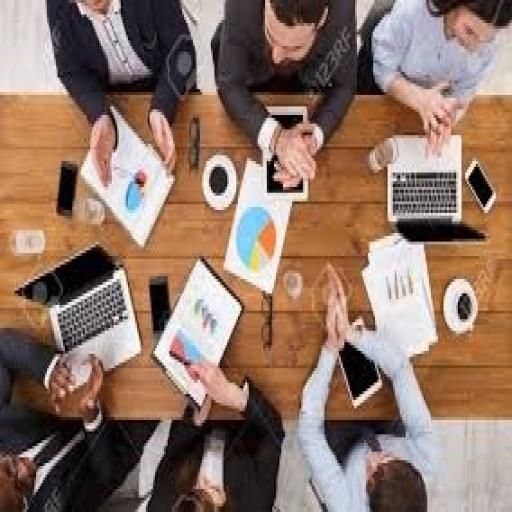clapping: (44, 0, 198, 187), (211, 0, 359, 190)
